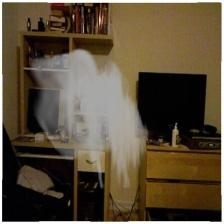fire: (30, 48, 150, 189)
